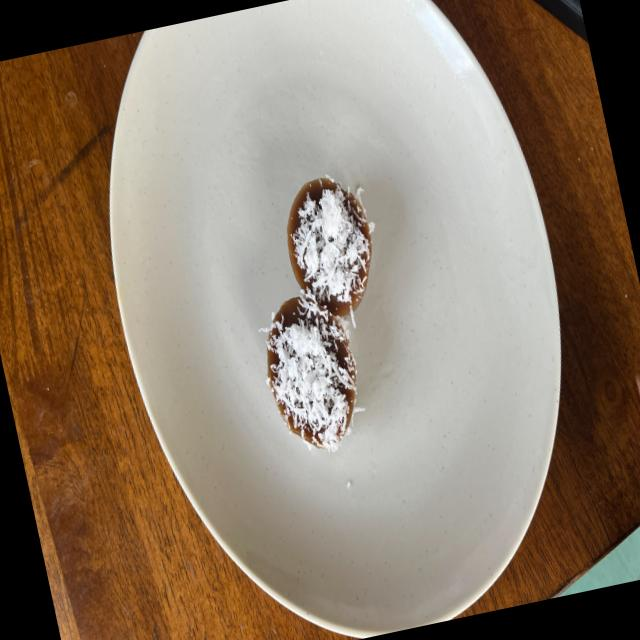Kuih lompang: (266, 293, 356, 450), (286, 177, 372, 316)
